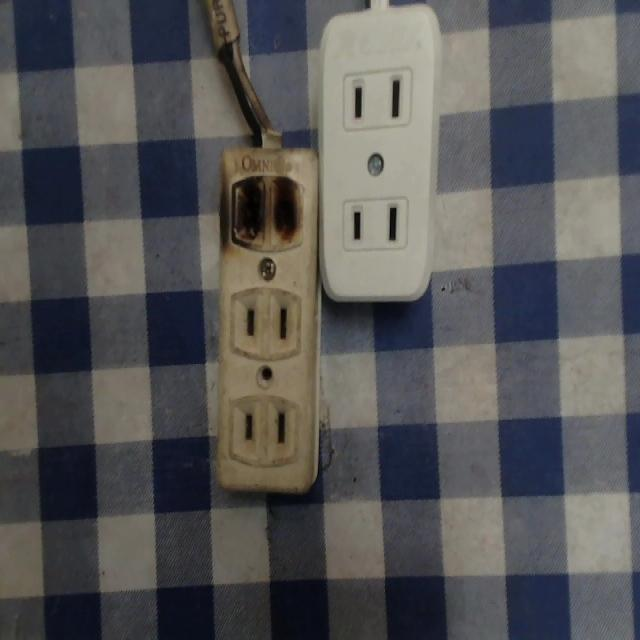-: (222, 172, 305, 251)
